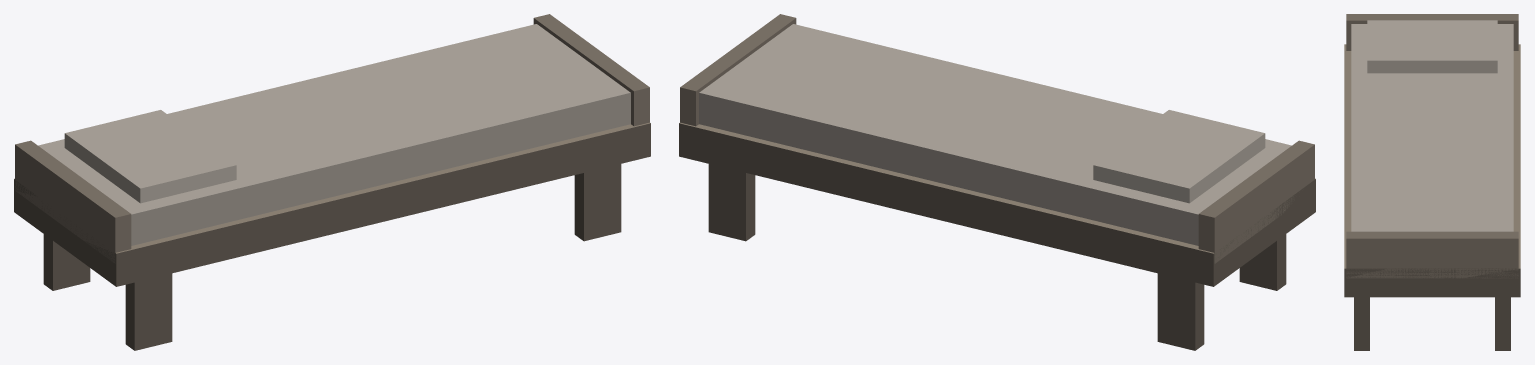
Rendered from bunk_lower.glb.
The picture shows the model from 3 angles, left to right: view 1: azimuth 30°, elevation 25°; view 2: azimuth 150°, elevation 25°; view 3: azimuth 270°, elevation 25°; orthographic projection. The views are drawn at different scales.
Parts seen in each view (by area): view 1: bunk_lower; view 2: bunk_lower; view 3: bunk_lower.
Part boxes in pixels (bbox=[...]): bunk_lower: bbox=[14, 14, 650, 350]; bunk_lower: bbox=[679, 14, 1315, 350]; bunk_lower: bbox=[1344, 14, 1520, 350].
Bounding box in the file's own units: 1.75 × 0.48 × 0.58.
